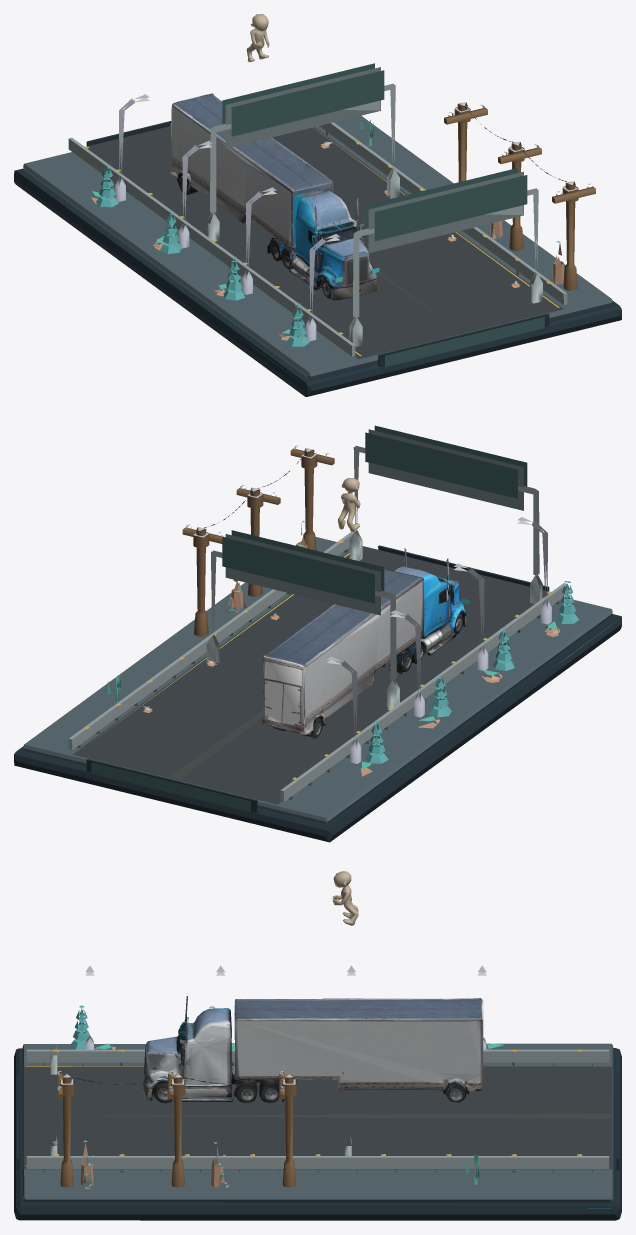
3 renders of one model, top to bottom at view 1: azimuth 30°, elevation 25°; view 2: azimuth 150°, elevation 25°; view 3: azimuth 270°, elevation 25°, orthographic. The views are drawn at different scales.
Visible parts, largest first — view 1: HighwayMiddle, L1_SuppliedTruck; view 2: HighwayMiddle, L1_SuppliedTruck; view 3: HighwayMiddle, L1_SuppliedTruck.
Part boxes in pixels (x1,y1,x2,y2): HighwayMiddle: [14, 14, 621, 396]; L1_SuppliedTruck: [170, 93, 376, 300]; HighwayMiddle: [14, 425, 621, 842]; L1_SuppliedTruck: [261, 548, 466, 738]; HighwayMiddle: [14, 871, 621, 1220]; L1_SuppliedTruck: [143, 996, 483, 1103].
Size of the model in its own units: 11.6 by 8.33 by 18.6.
Materials: 2 (1 with a texture image).
